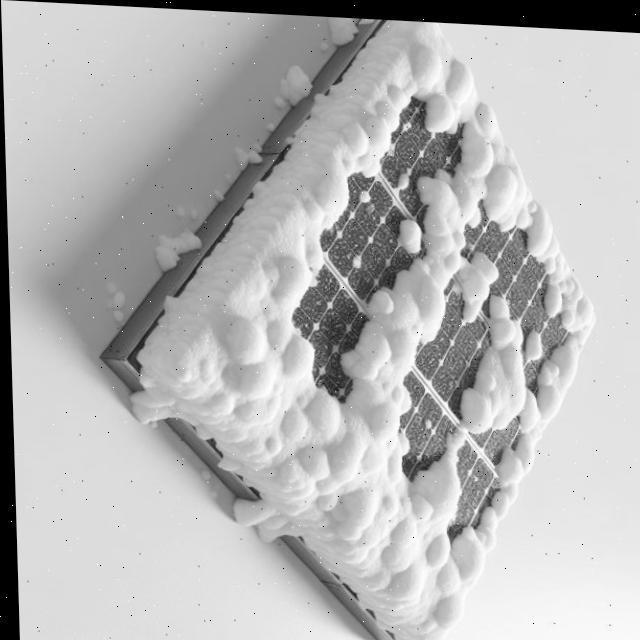Anomaly Solar Panel: (130, 17, 640, 640)
Snow: (126, 17, 640, 640), (520, 323, 547, 360)
